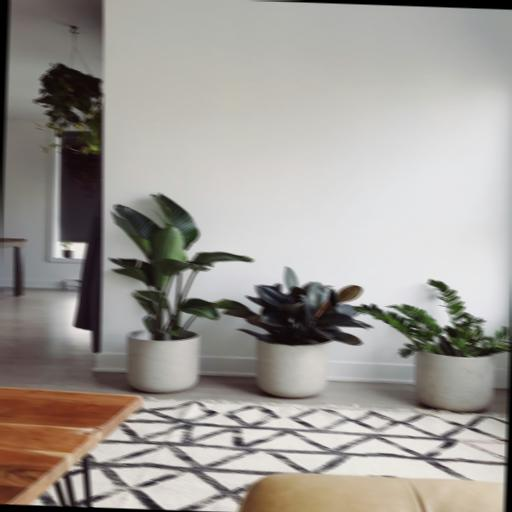desk: (0, 385, 143, 508), (0, 236, 26, 296)
sofa: (232, 469, 504, 512)
wall: (86, 0, 512, 385), (0, 114, 87, 289)
